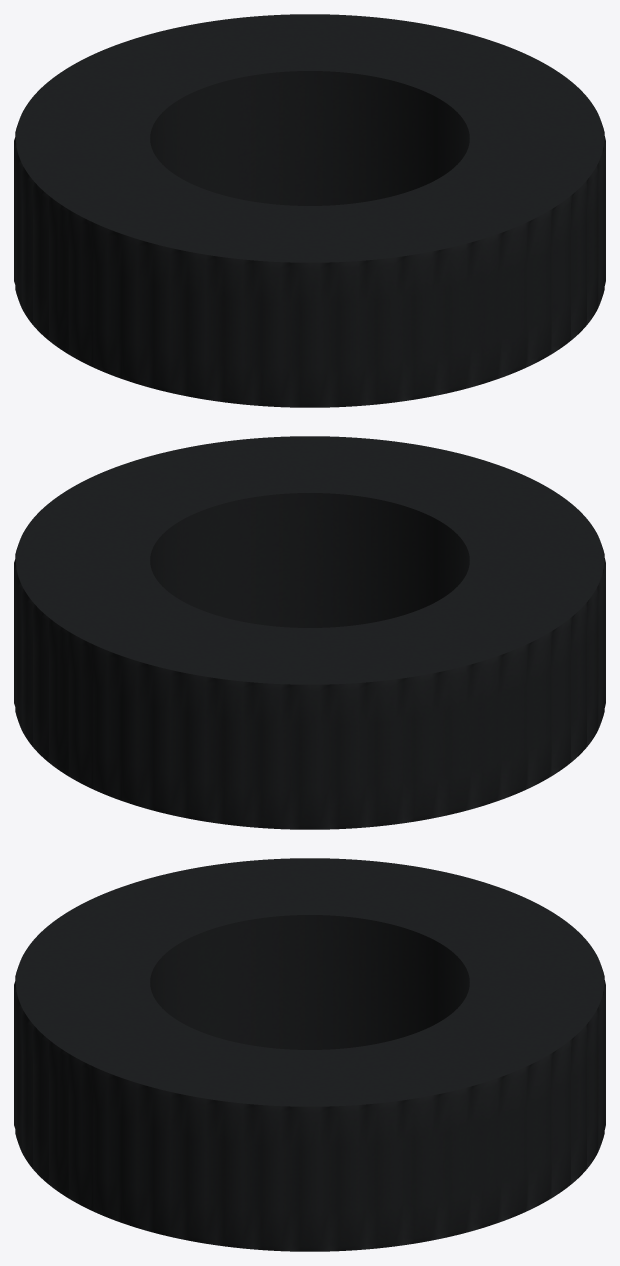
Rendered from right_wheel.obj.
3 views of the same model, one above another, from view 1: azimuth 30°, elevation 25°; view 2: azimuth 150°, elevation 25°; view 3: azimuth 270°, elevation 25° (orthographic).
Visible parts, largest first — view 1: right_wheel__rubber_tyre; view 2: right_wheel__rubber_tyre; view 3: right_wheel__rubber_tyre.
Part boxes in pixels (box(x1,y1,x2,y2)): right_wheel__rubber_tyre: box(14, 14, 605, 407); right_wheel__rubber_tyre: box(14, 436, 605, 829); right_wheel__rubber_tyre: box(14, 858, 605, 1251).
Size of the model in its own units: 0.185 by 0.05 by 0.185.
1 material, 1 textured.
